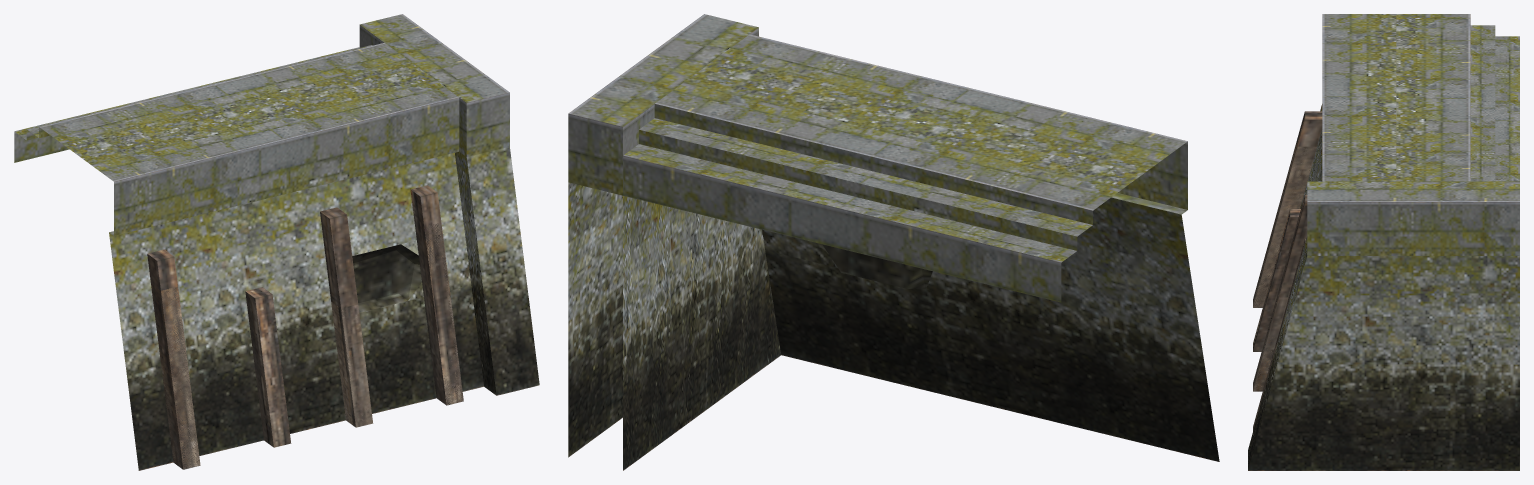
File: CanalWall01c.obj
The picture shows the model from 3 angles, left to right: view 1: azimuth 30°, elevation 25°; view 2: azimuth 150°, elevation 25°; view 3: azimuth 270°, elevation 25°; orthographic projection. The views are drawn at different scales.
Parts seen in each view (by area): view 1: CanalWall02, CanalWallCap, CanalWallPosts01, CanalWallPosts02, CanalWallPosts03; view 2: CanalWall02, CanalWallCap; view 3: CanalWallCap, CanalWall02, CanalWallPosts01, CanalWallPosts02, CanalWallPosts03.
Part boxes in pixels (<box>): CanalWall02: <box>14,43,483,470</box>; CanalWallCap: <box>359,14,539,395</box>; CanalWallPosts01: <box>151,185,463,469</box>; CanalWallPosts02: <box>155,207,463,469</box>; CanalWallPosts03: <box>147,223,462,469</box>; CanalWall02: <box>623,34,1219,461</box>; CanalWallCap: <box>568,14,781,470</box>; CanalWallCap: <box>1248,181,1519,470</box>; CanalWall02: <box>1300,14,1519,208</box>; CanalWallPosts01: <box>1253,142,1316,430</box>; CanalWallPosts02: <box>1253,170,1307,405</box>; CanalWallPosts03: <box>1253,111,1322,307</box>.
Size of the model in its own units: 9 by 6 by 5.5.
